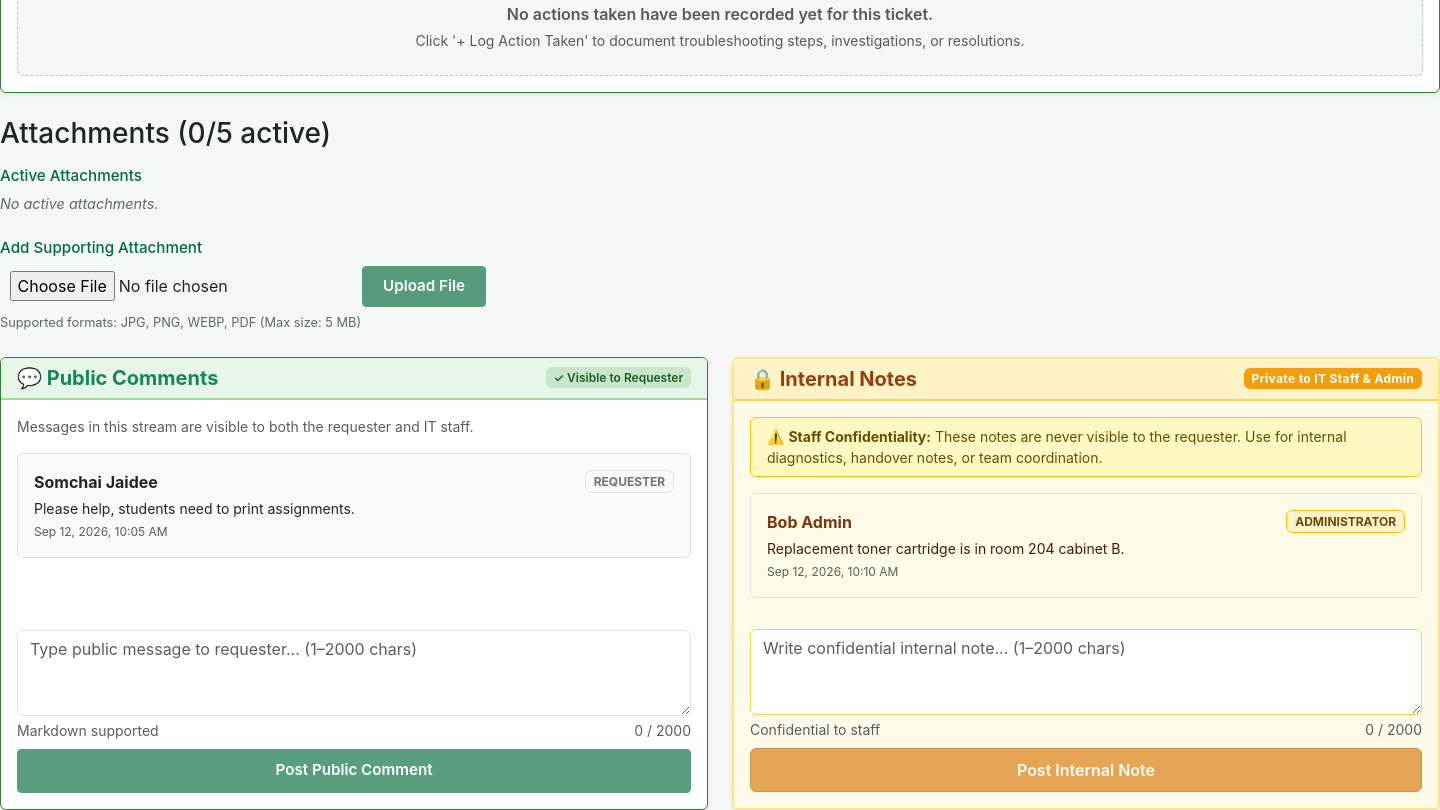
StaffTicketDetail Component (UI-04, AC-10, AC-13..15, BR-11, BR-13, BR-15, BR-18) › renders Public Comments stream and posts a new comment (AC-09)
(page scrolled)
Expected: the element with test id "public-comments-panel" is shown, [0,357,708,809]
Expected: the text "✓ Visible to Requester" is shown, [546,367,691,388]
In the text box with test id "comment-textarea": (354, 673) [17,630,691,716], type "Toner will be replaced within 30 minutes."
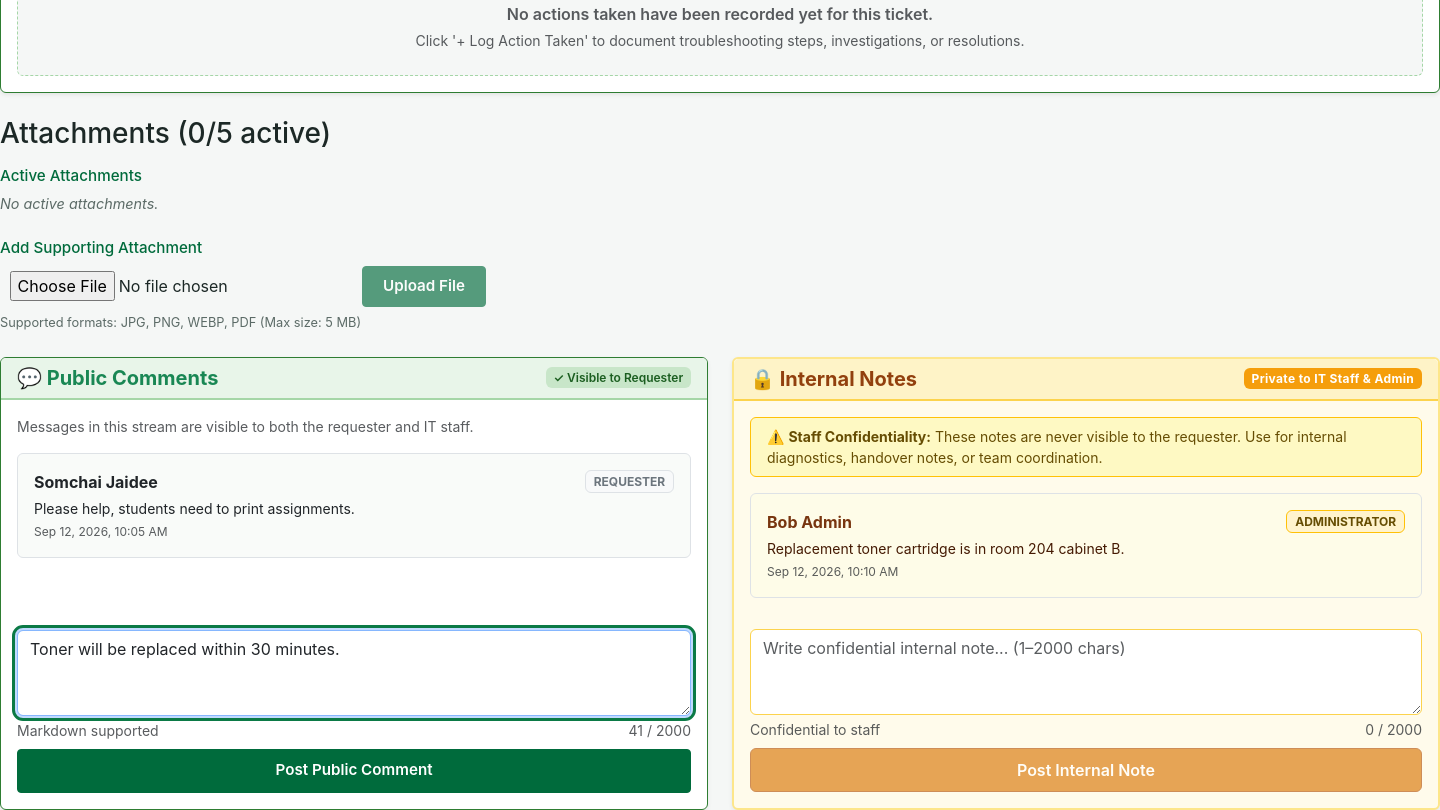
Expected: the button with test id "submit-comment-btn" is enabled
Click the button with test id "submit-comment-btn": click(354, 771) [17,749,691,793]
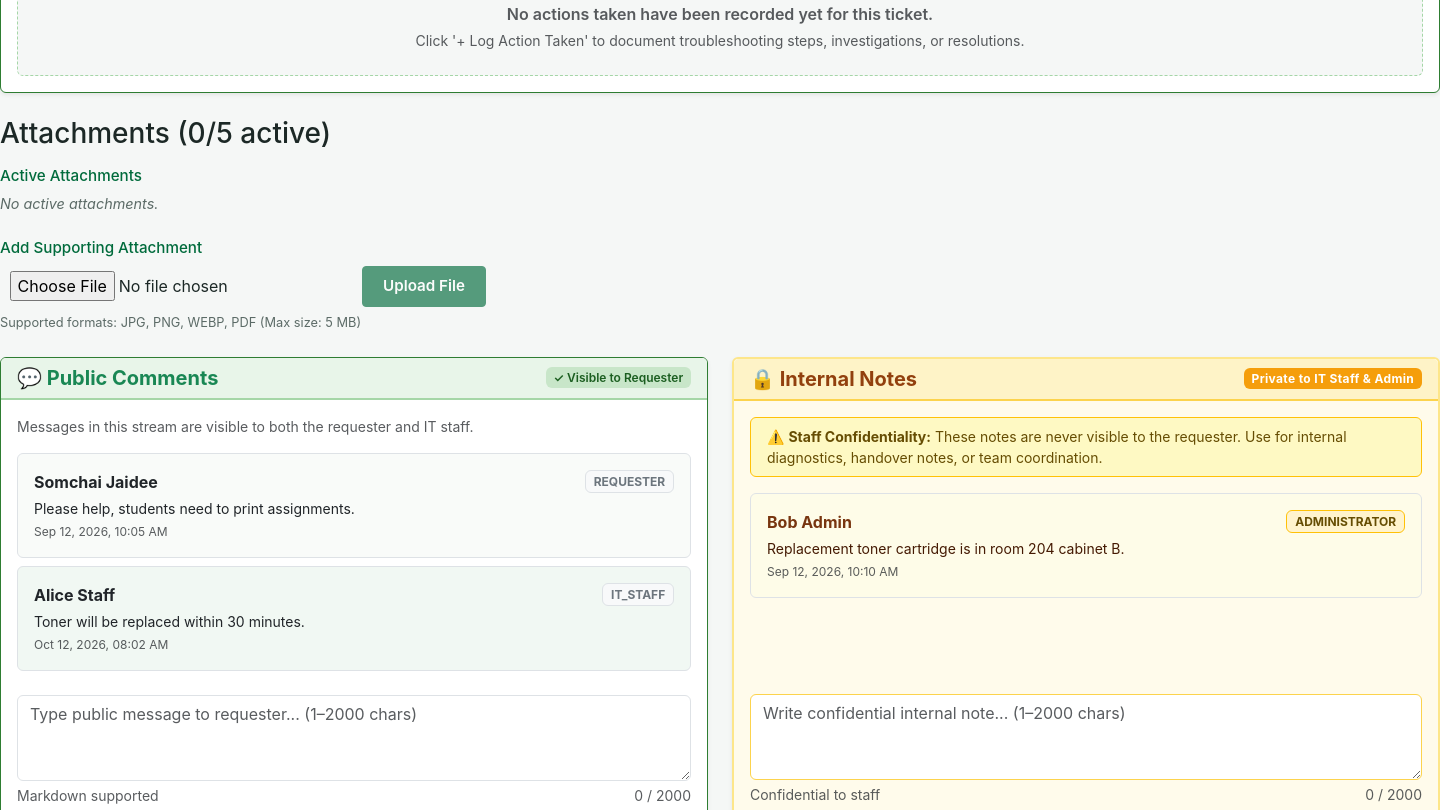
Expected: the text "Toner will be replaced within 30 minutes." is shown, [34,613,305,630]
Expected: the text box with test id "comment-textarea" is empty, [17,695,691,781]
